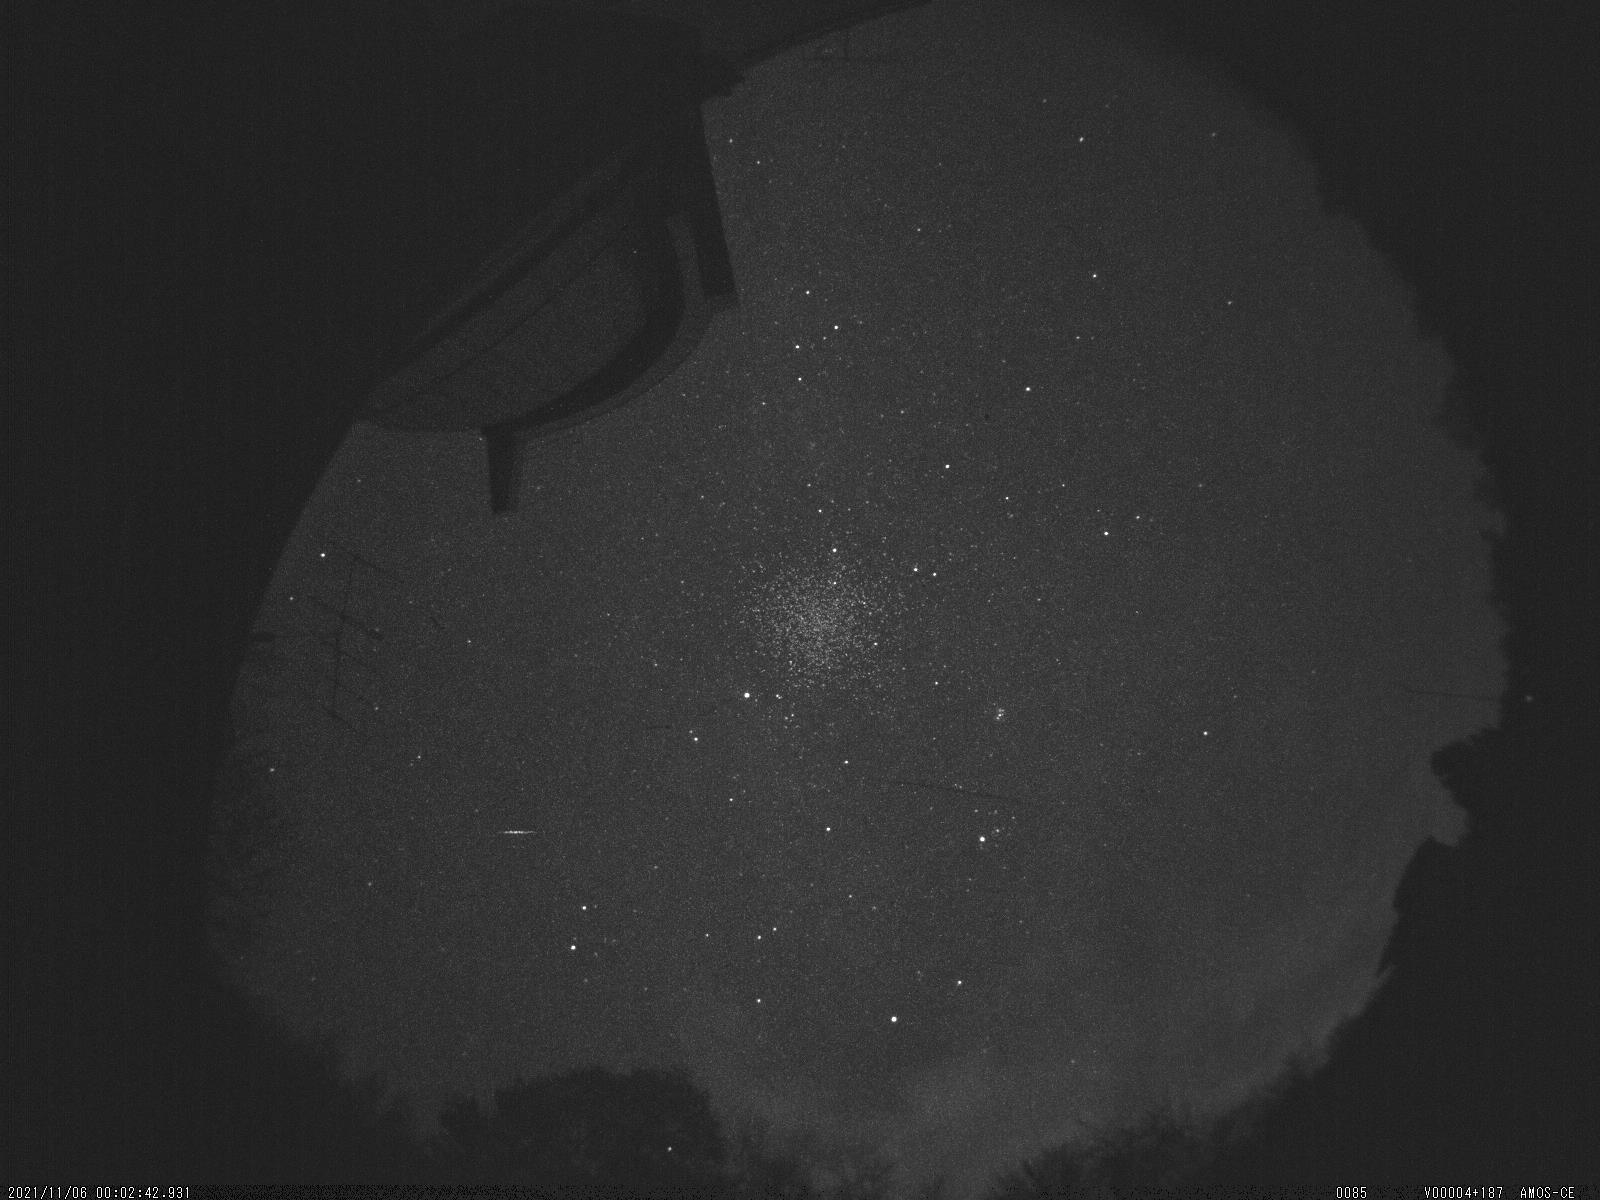Meteor: (490, 821, 549, 842)
